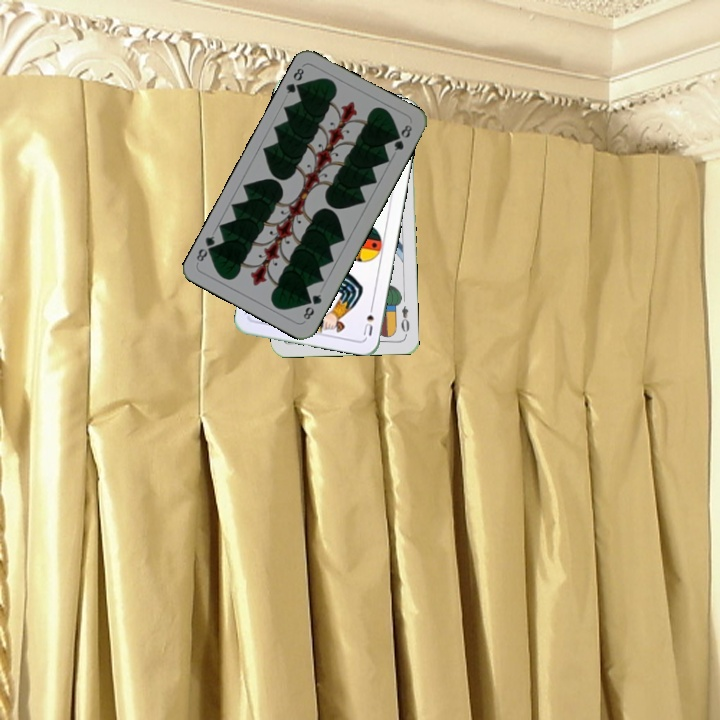EO: (397, 302, 412, 338)
G8: (299, 290, 324, 323), (282, 64, 307, 96)
SU: (359, 299, 377, 338)
